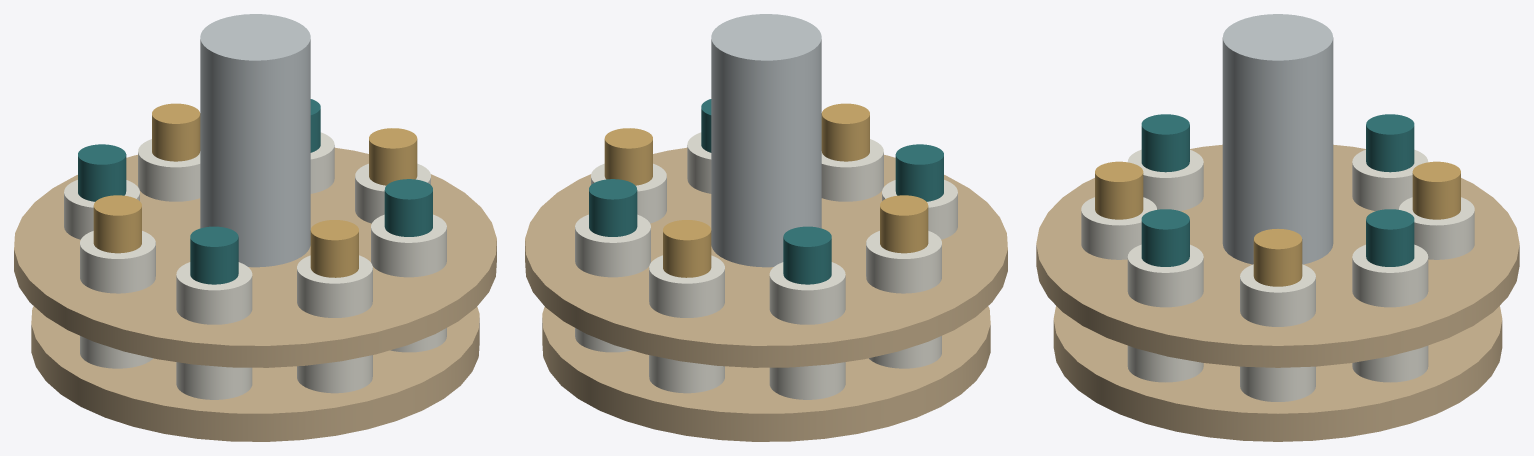
The model's file is tabletop-hobby-store-and-club-paint-bottle-carousel-ff629e4d__31588.glb.
The picture shows the model from 3 angles, left to right: view 1: azimuth 30°, elevation 25°; view 2: azimuth 150°, elevation 25°; view 3: azimuth 270°, elevation 25°; orthographic projection.
Parts seen in each view (by area): view 1: paint-bottle-carousel; view 2: paint-bottle-carousel; view 3: paint-bottle-carousel.
Part boxes in pixels (x1,y1,x2,y2): paint-bottle-carousel: (14,14,496,441); paint-bottle-carousel: (525,14,1007,441); paint-bottle-carousel: (1036,14,1519,441).
Bounding box in the file's own units: 0.14 × 0.099 × 0.14.
